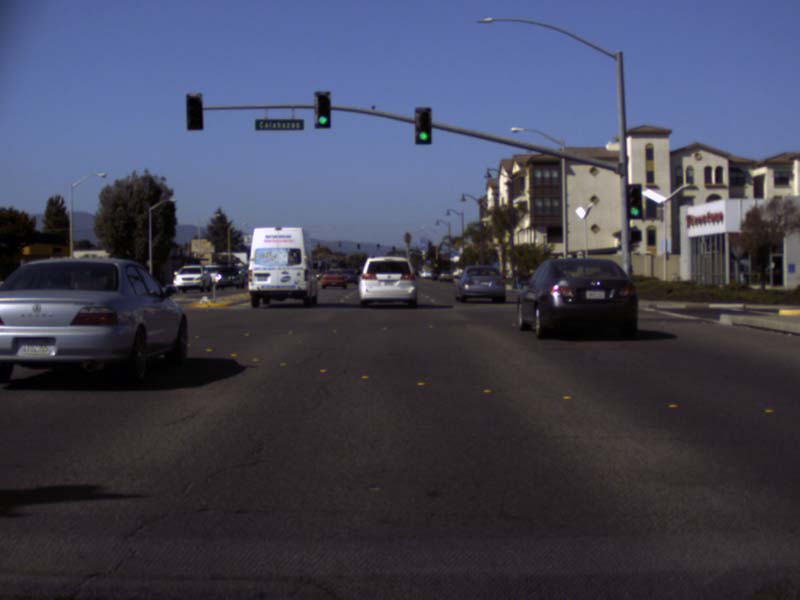Green: (413, 108, 431, 144), (314, 91, 331, 128), (626, 185, 643, 219)
